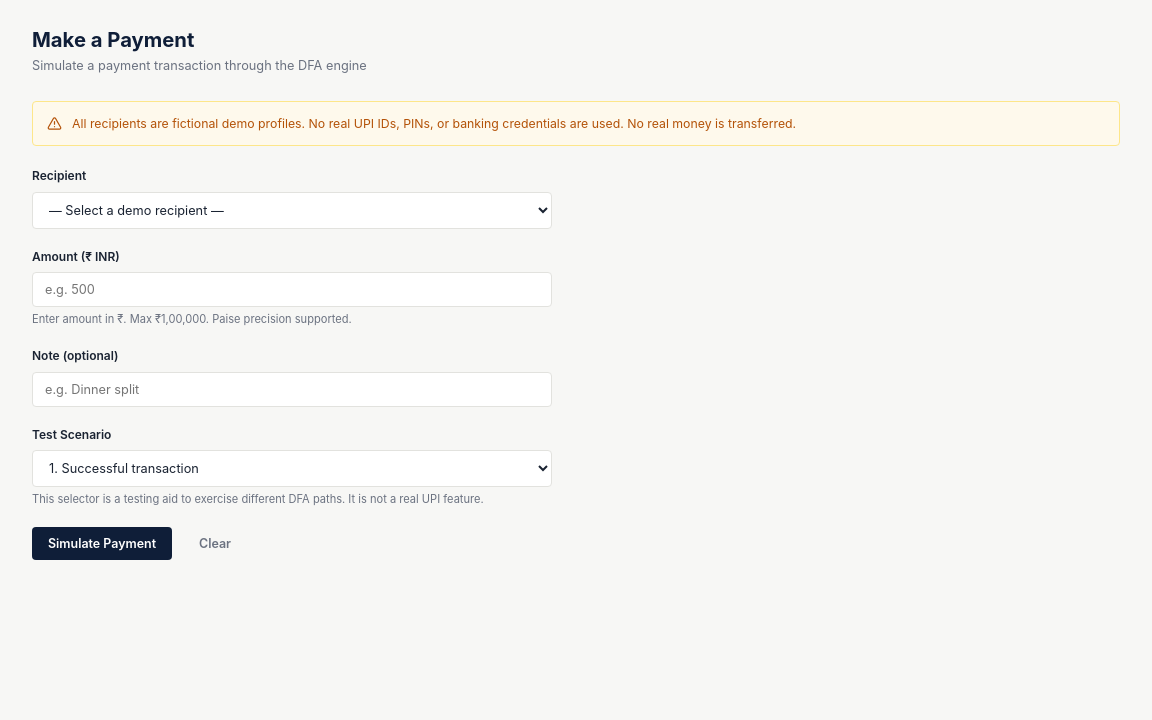
Payment form › shows validation error for zero amount
Step 1. Select "Alex Sharma (alex@demo)" in the dropdown labelled "Recipient" → (292, 210), box [32,192,552,228]
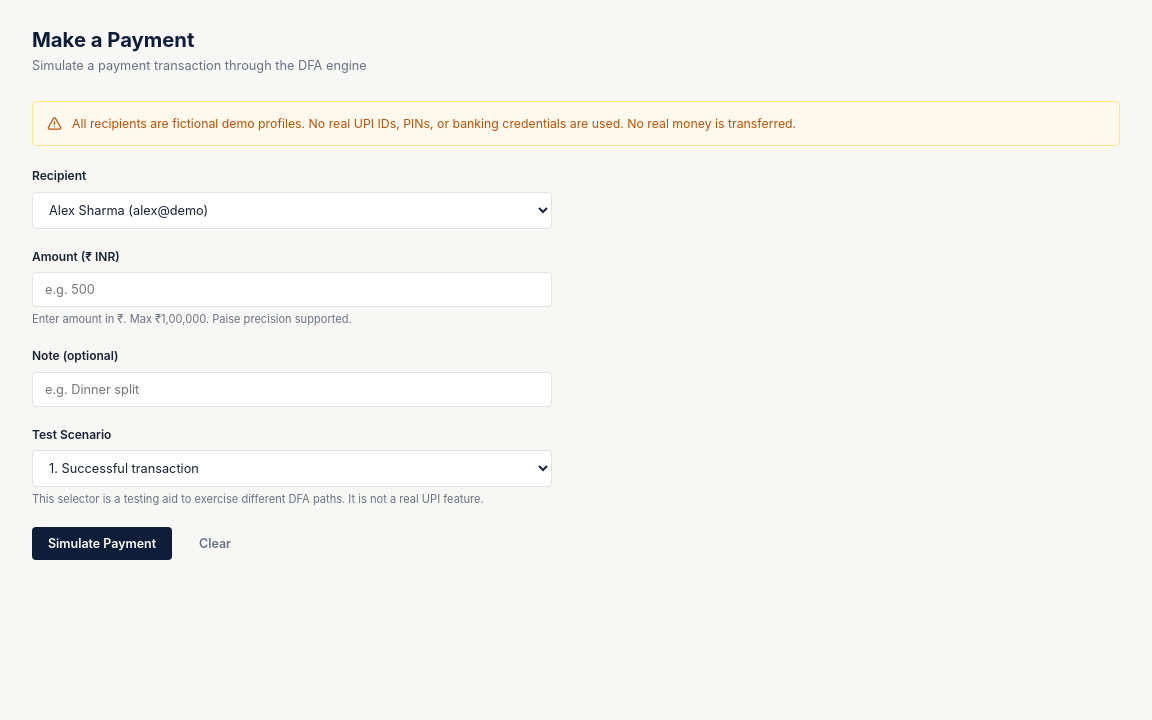
Step 2. Type "0" into the number field labelled "Amount (₹ INR)" → (292, 289), box [32,272,552,307]
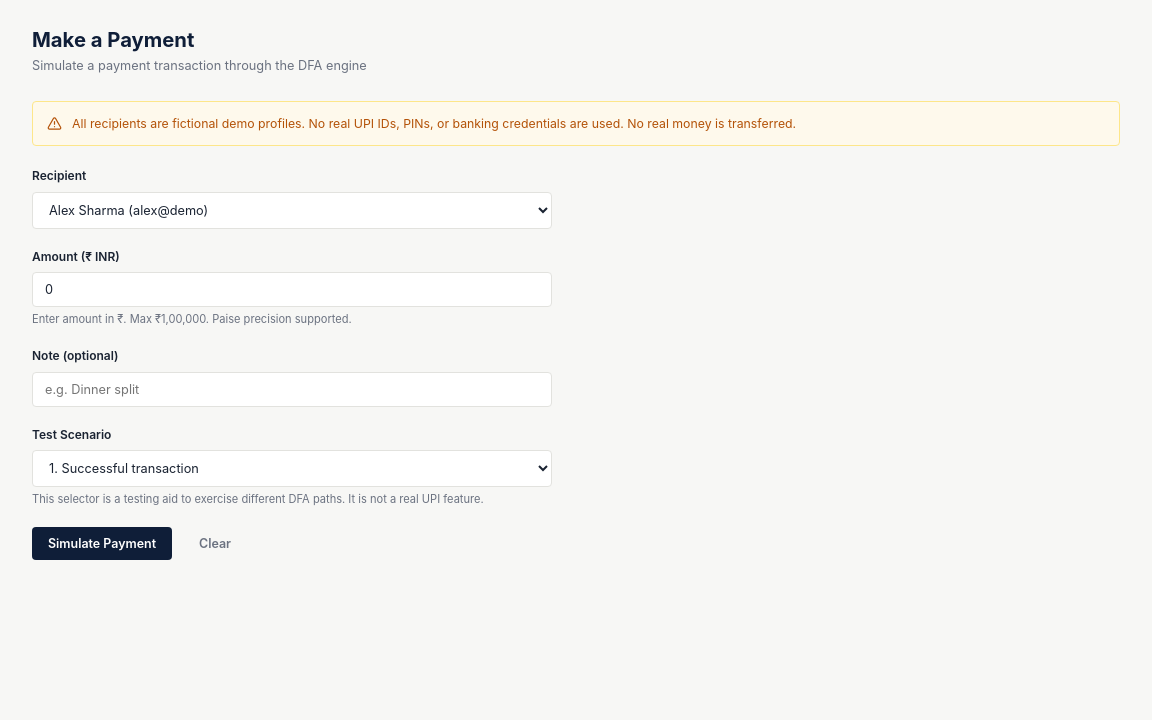
Step 3. Click the button "Simulate Payment" → (102, 543), box [32,527,172,560]
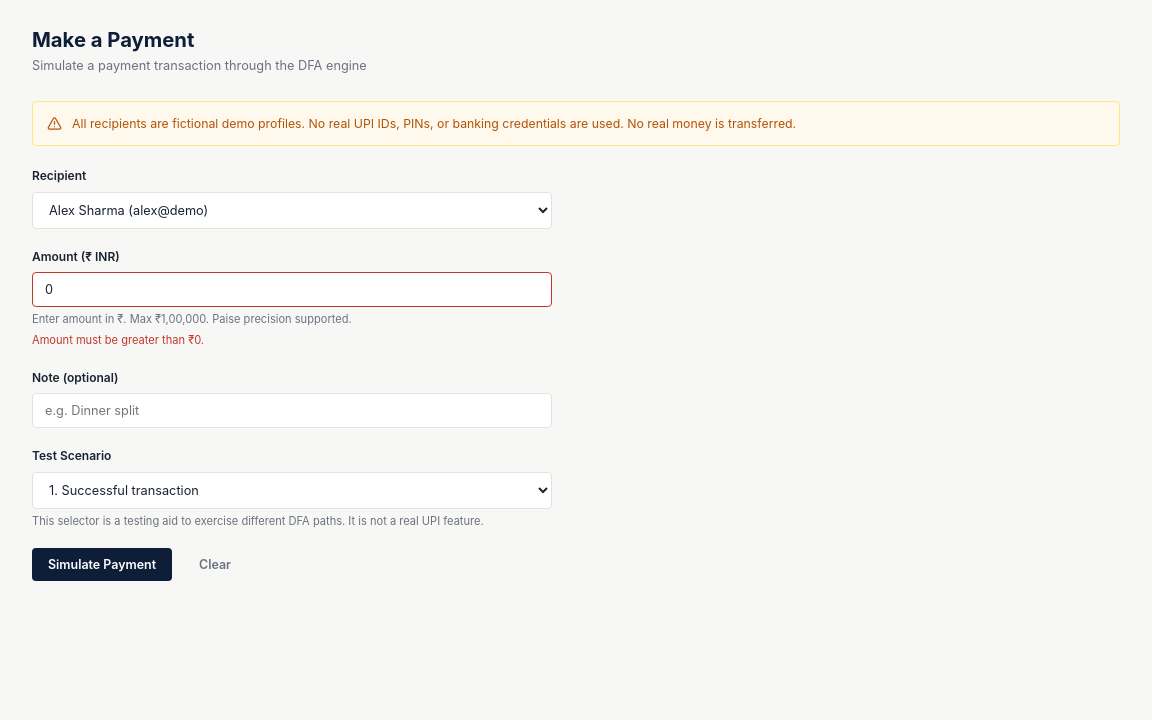
Expected: the text "Amount must be greater than ₹0." is shown, [32,334,204,348]
